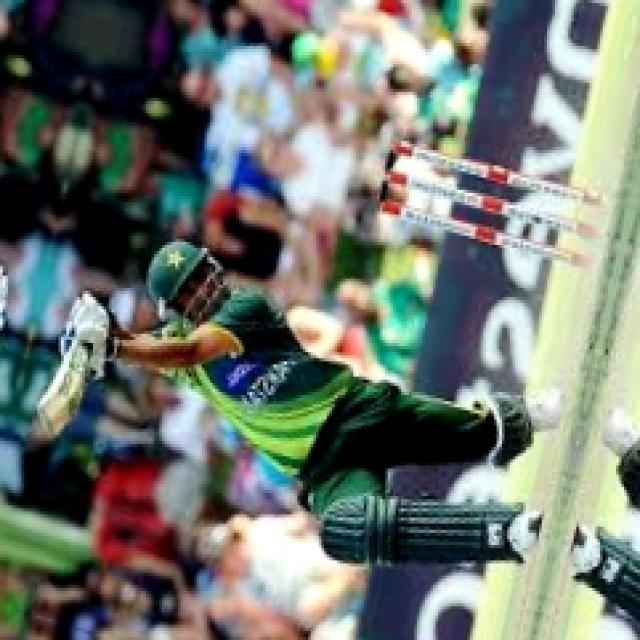toe: (31, 385, 74, 444)
